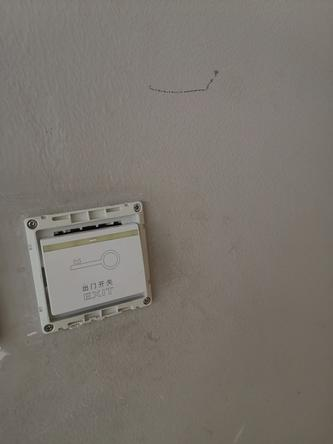switch: (39, 215, 149, 324)
